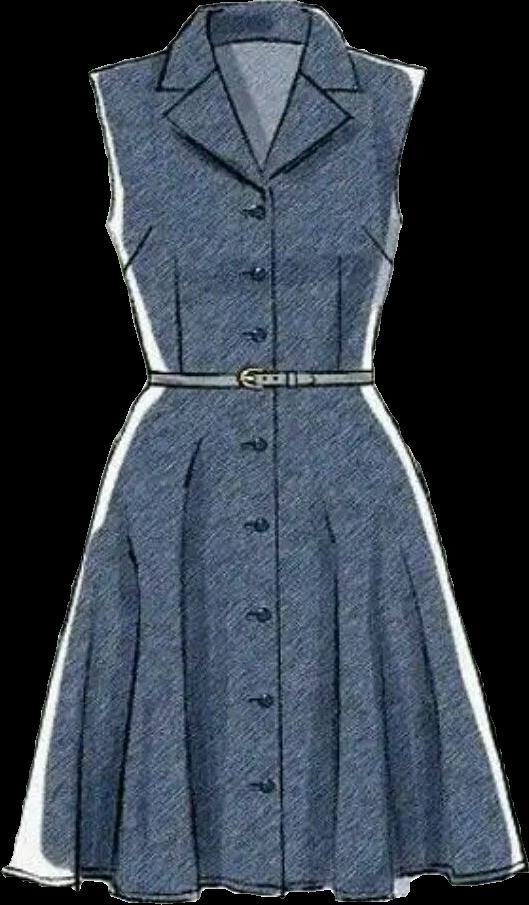Bodice: (88, 0, 426, 384)
Hemline: (0, 861, 528, 904)
Neckline: (205, 2, 315, 179)
Skirt: (2, 385, 526, 903)
Waistline: (140, 378, 379, 392)
